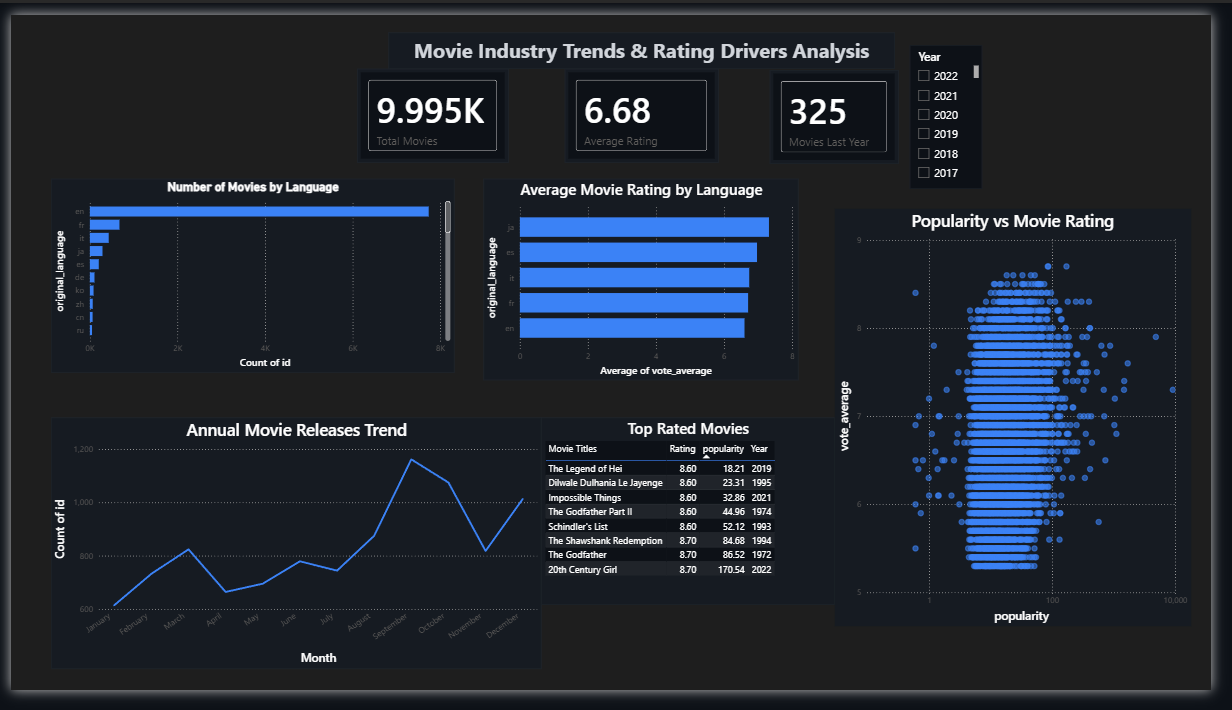

The dashboard page shown, as its layout file describes it:
{"tool":"powerbi","page":{"name":"Page 1","canvas":[1920,1080],"ordinal":0},"visuals":[{"type":"clusteredBarChart","title":"Average Movie Rating by Language","fields":{"Category":["TMDB 10000 Movies Dataset cleaned.original_language"],"Y":["Avg(TMDB 10000 Movies Dataset cleaned.vote_average)"]},"box":[757,261.6,504.1,322.7],"z":0},{"type":"lineChart","title":"Annual Movie Releases Trend","fields":{"Category":["TMDB 10000 Movies Dataset cleaned.release_date.Variation.Date Hierarchy.Year","TMDB 10000 Movies Dataset cleaned.release_date.Variation.Date Hierarchy.Quarter","TMDB 10000 Movies Dataset cleaned.release_date.Variation.Date Hierarchy.Month","TMDB 10000 Movies Dataset cleaned.release_date.Variation.Date Hierarchy.Day"],"Y":["CountNonNull(TMDB 10000 Movies Dataset cleaned.id)"]},"box":[64.5,644,784.9,402.6],"z":1000},{"type":"cardVisual","fields":{"Data":["CountNonNull(TMDB 10000 Movies Dataset cleaned.id)"]},"box":[554,86,242,150],"z":2000},{"type":"cardVisual","fields":{"Data":["Avg(TMDB 10000 Movies Dataset cleaned.vote_average)"]},"box":[886,86,246,150],"z":3000},{"type":"textbox","box":[604,28,810,58],"z":4000},{"type":"cardVisual","fields":{"Data":["TMBD.Movies Last Year"]},"box":[1214,88,206,150],"z":5000},{"type":"tableEx","title":"Top Rated Movies","fields":{"Values":["TMBD.title","TMBD.vote_average","TMBD.popularity","TMBD.release_date.Variation.Date Hierarchy.Year"]},"box":[848,644,470,300],"z":6000},{"type":"scatterChart","title":"Popularity vs Movie Rating","fields":{"X":["TMBD.popularity"],"Y":["TMBD.vote_average"]},"box":[1318,310,570,668],"z":7000},{"type":"slicer","fields":{"Values":["TMBD.release_date.Variation.Date Hierarchy.Year"]},"box":[1438,48,116,230],"z":8000},{"type":"clusteredBarChart","title":"Number of Movies by Language","fields":{"Category":["TMBD.original_language"],"Y":["CountNonNull(TMBD.id)"]},"box":[64.5,261.6,645.4,310.5],"z":9000}]}

Visuals, with their boxes in screenshot pixels (x1, y1, x2, y2), scaled from the page's 1920x1080 canvas onto the 1232x710 screenshot:
"Average Movie Rating by Language" clusteredBarChart: {"x1": 486, "y1": 172, "x2": 809, "y2": 384}
"Annual Movie Releases Trend" lineChart: {"x1": 41, "y1": 423, "x2": 545, "y2": 688}
cardVisual - CountNonNull(TMDB 10000 Movies Dataset cleaned.id): {"x1": 355, "y1": 57, "x2": 511, "y2": 155}
cardVisual - Avg(TMDB 10000 Movies Dataset cleaned.vote_average): {"x1": 569, "y1": 57, "x2": 726, "y2": 155}
textbox: {"x1": 388, "y1": 18, "x2": 907, "y2": 57}
cardVisual - TMBD.Movies Last Year: {"x1": 779, "y1": 58, "x2": 911, "y2": 156}
"Top Rated Movies" tableEx: {"x1": 544, "y1": 423, "x2": 846, "y2": 621}
"Popularity vs Movie Rating" scatterChart: {"x1": 846, "y1": 204, "x2": 1211, "y2": 643}
slicer - TMBD.release_date.Variation.Date Hierarchy.Year: {"x1": 923, "y1": 32, "x2": 997, "y2": 183}
"Number of Movies by Language" clusteredBarChart: {"x1": 41, "y1": 172, "x2": 456, "y2": 376}
